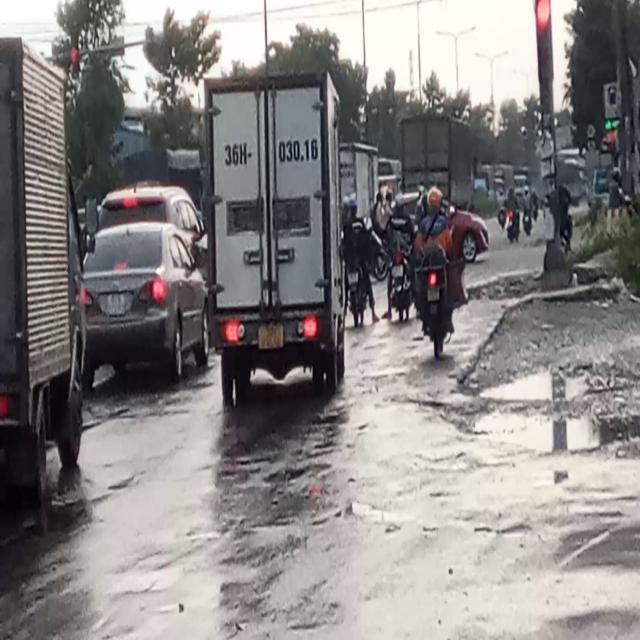bien_vang: (258, 326, 284, 351)
